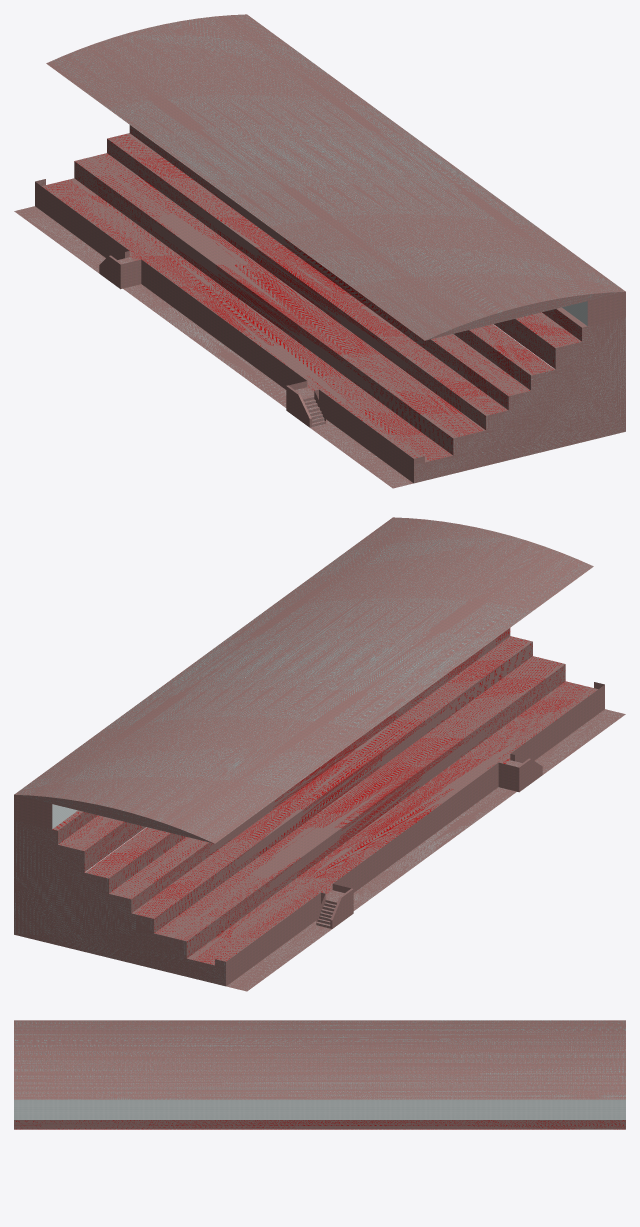
Rendered from standv.2.fbx.
The picture shows the model from 3 angles, top to bottom: view 1: azimuth 30°, elevation 25°; view 2: azimuth 150°, elevation 25°; view 3: azimuth 270°, elevation 25°; orthographic projection. The views are drawn at different scales.
Parts seen in each view (by area): view 1: Component_16_1; view 2: Component_16_1; view 3: Component_16_1.
Boxes of the visible parts, left/top/right/bottom form: Component_16_1: left=14, top=14, right=625, bottom=488; Component_16_1: left=14, top=517, right=625, bottom=991; Component_16_1: left=14, top=1020, right=625, bottom=1129.
Size of the model in its own units: 15.67 by 9.68 by 44.11.
